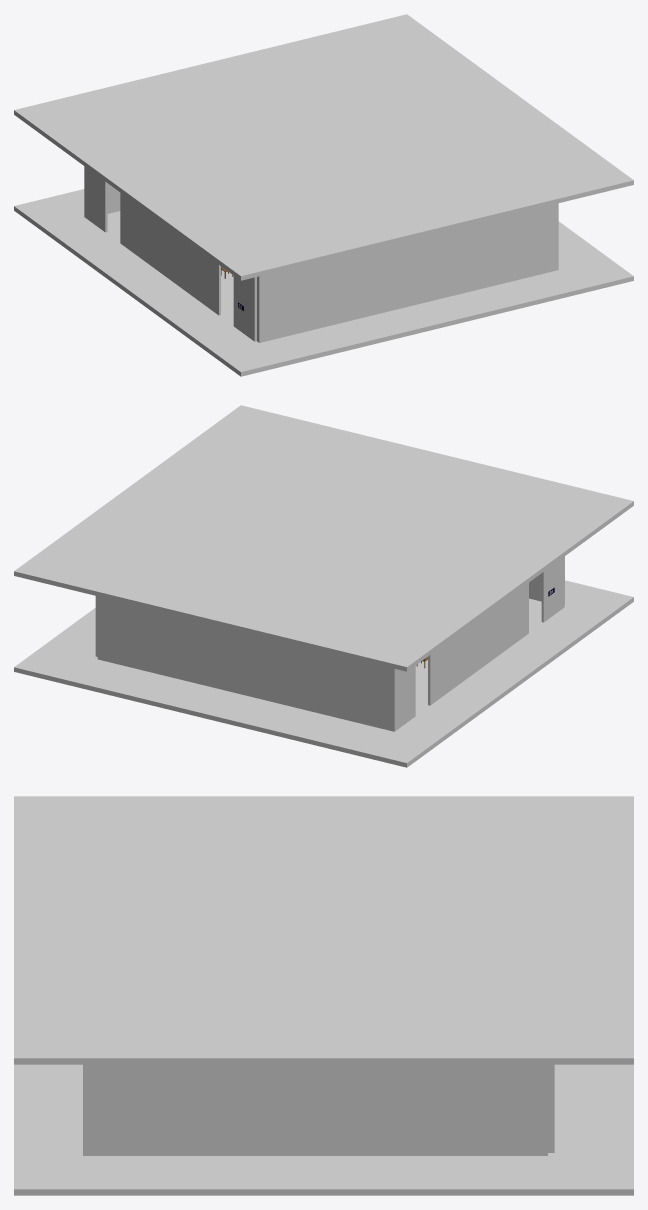
File: Classroom.fbx
3 renders of one model, top to bottom at view 1: azimuth 30°, elevation 25°; view 2: azimuth 150°, elevation 25°; view 3: azimuth 270°, elevation 25°, orthographic. The views are drawn at different scales.
Parts seen in each view (by area): view 1: Floor.026; view 2: Floor.026; view 3: Floor.026.
Boxes of the visible parts, bbox=[...] form: Floor.026: bbox=[14, 14, 633, 376]; Floor.026: bbox=[14, 405, 633, 767]; Floor.026: bbox=[14, 796, 633, 1195].
Size of the model in its own units: 18 by 18 by 4.4.
